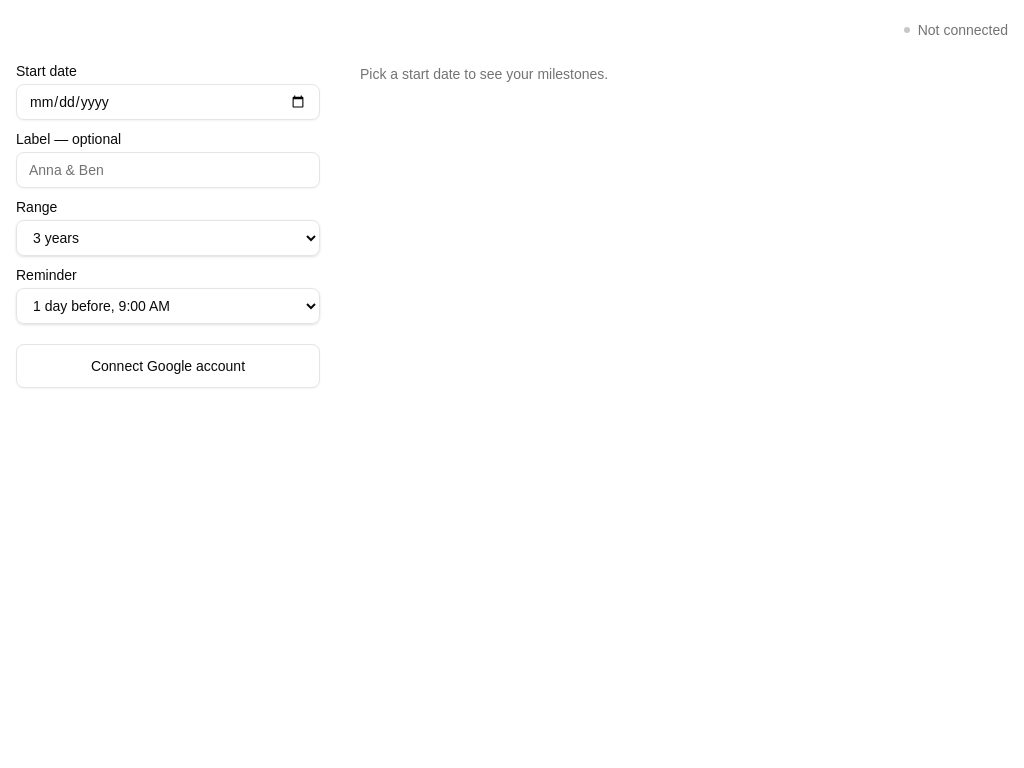
Scenario: App — connected › writes the selected milestones and shows the result
This screenshot has width=1024, height=768.
Expected: the button "Connect Google account" is enabled, x1=16 y1=344 x2=320 y2=388
Type "2026-01-01" into the date field labelled "Start date" at (168, 102), box x1=16 y1=84 x2=320 y2=120
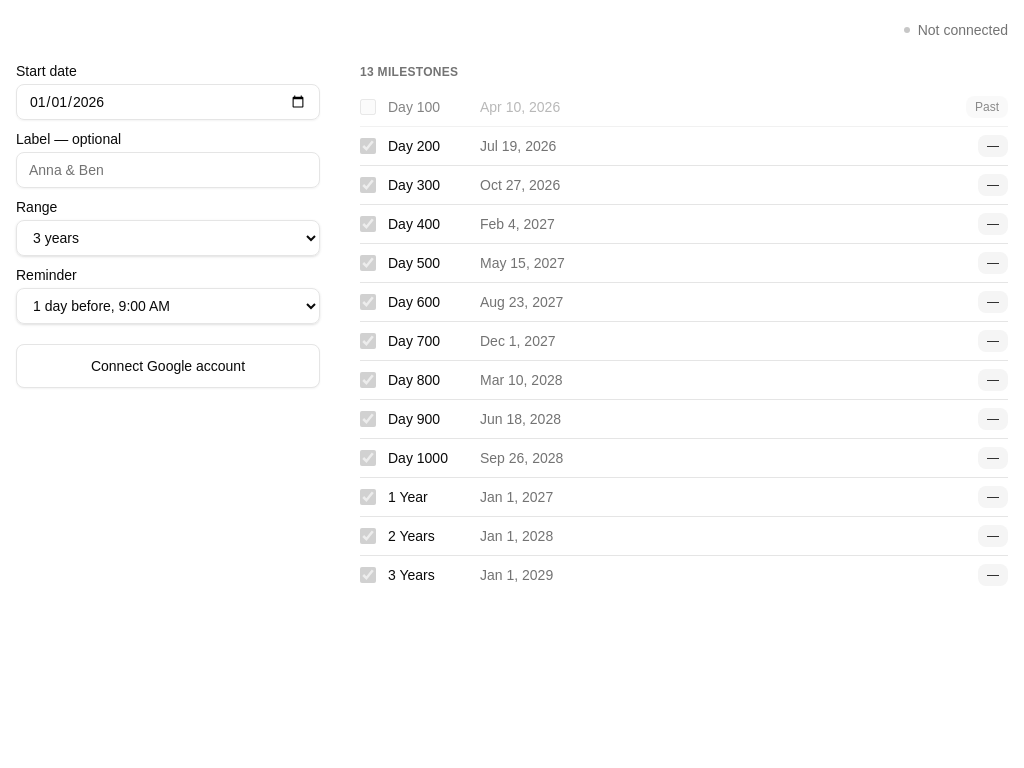
Click the button "Connect Google account" at (168, 366), box x1=16 y1=344 x2=320 y2=388
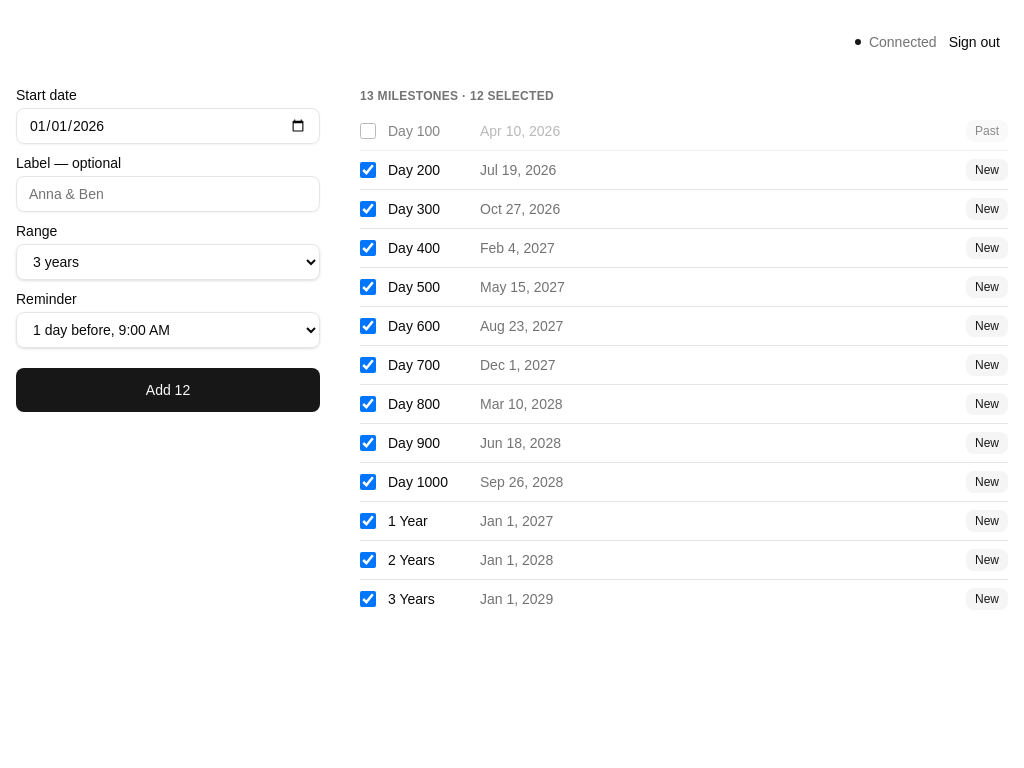
Click the button "Add 12" at (168, 390), box x1=16 y1=368 x2=320 y2=412
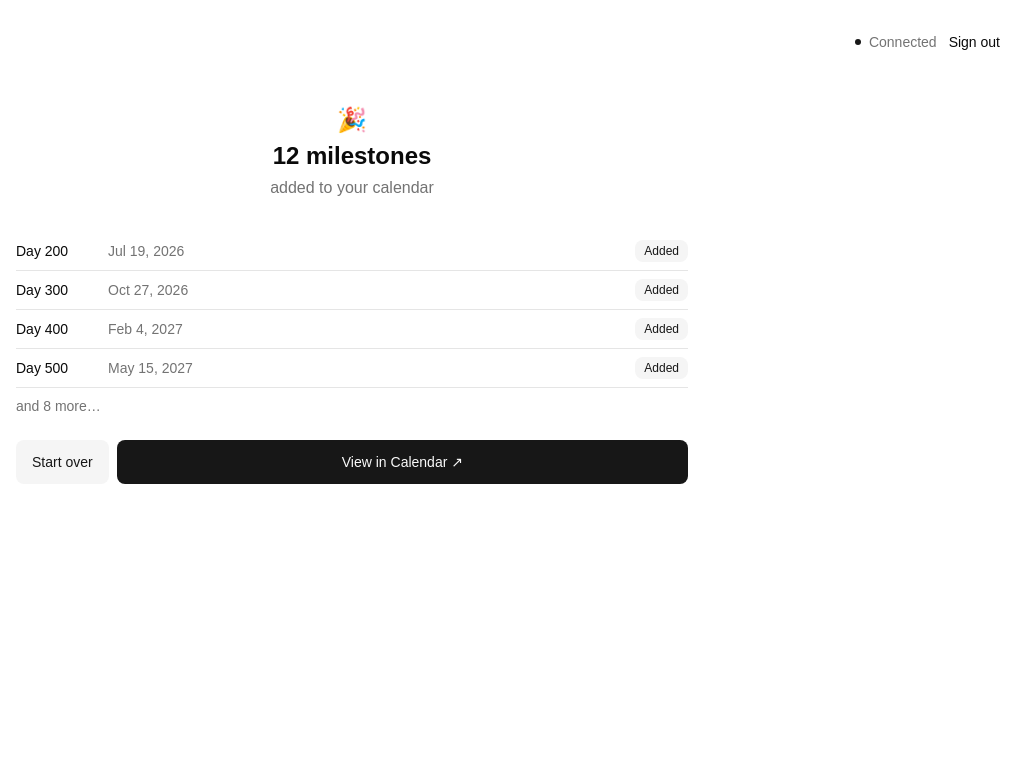
Expected: the text "12 milestones" is shown, x1=273 y1=142 x2=431 y2=169
Expected: the text "added to your calendar" is shown, x1=270 y1=179 x2=434 y2=196
